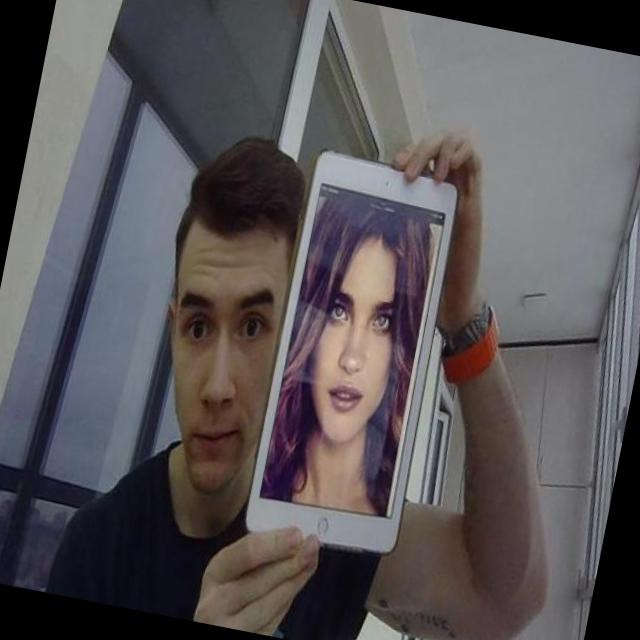bareface: (136, 202, 298, 483)
